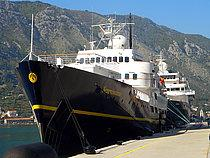Ship: (18, 10, 206, 156)
